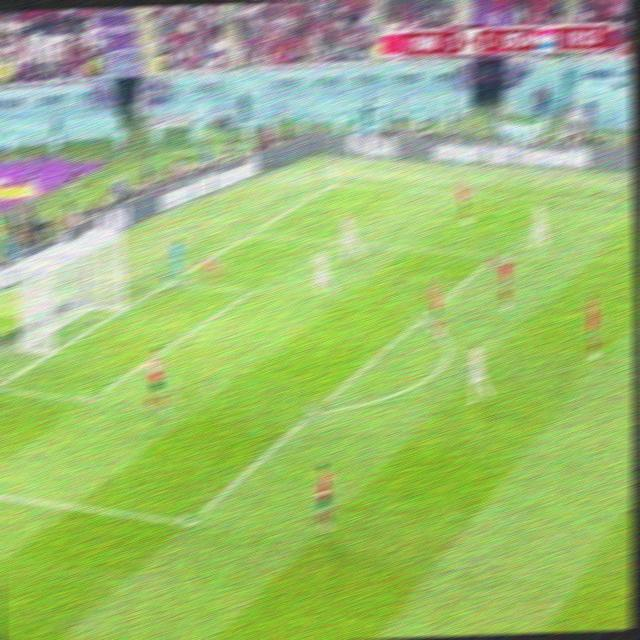bigarea_bottom_inner: (177, 508, 202, 536)
bigarea_top_inner: (487, 244, 508, 264)
bigarea_top_outter: (241, 224, 261, 240)
bottom_arc_area_intersection: (303, 400, 326, 421)
corner: (324, 176, 344, 190)
smallarea_bottom_inner: (79, 385, 103, 413)
smallarea_bottom_outter: (0, 375, 5, 397)
smallarea_top_inner: (241, 281, 262, 300)
smallarea_top_outter: (162, 272, 183, 290)
top_arc_area_intersection: (412, 307, 431, 326)
